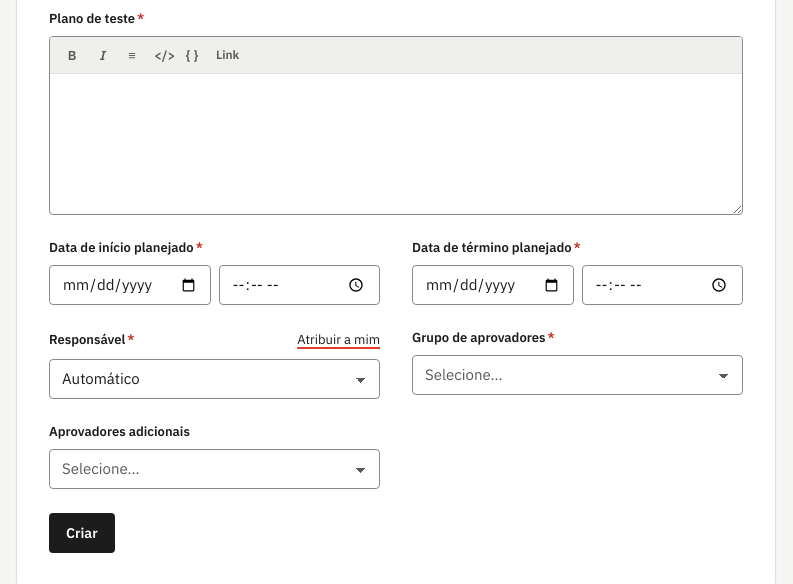
Mudança › o envio em branco lista os campos obrigatórios e foca o primeiro (Tipo de mudança)
(page scrolled)
Step 1. Click the button "Criar" → [82, 533], box x1=49 y1=513 x2=115 y2=553
(page scrolled)
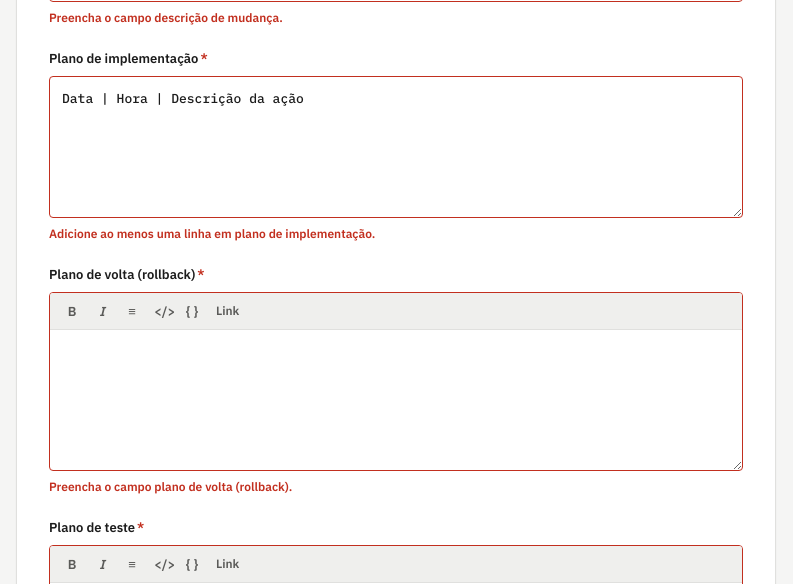
Check: the text "aprovadores adicionais" is not shown
Check: the text "Adicione ao menos uma linha em plano de implementação." is shown, box x1=49 y1=226 x2=375 y2=241
